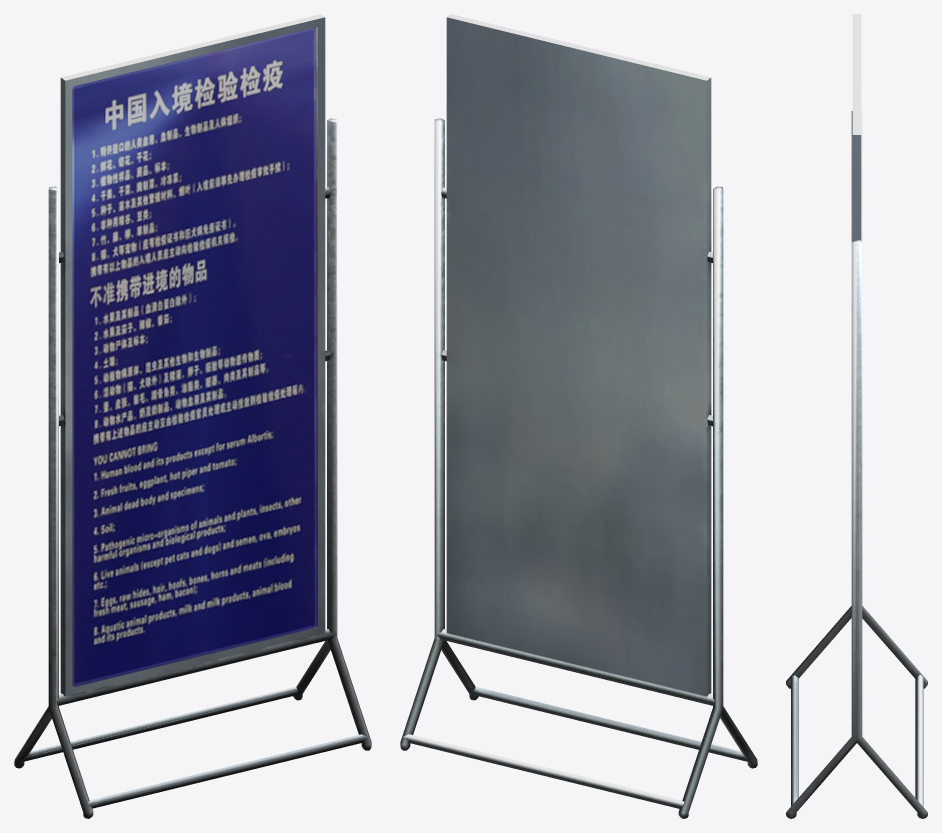
Rendered from 3dgj_bp_jyjy_qyp.FBX.
3 renders of one model, left to right at view 1: azimuth 30°, elevation 25°; view 2: azimuth 150°, elevation 25°; view 3: azimuth 270°, elevation 25°, orthographic. The views are drawn at different scales.
Visible parts, largest first — view 1: 3dgj_bp_jyjy_qyp; view 2: 3dgj_bp_jyjy_qyp; view 3: 3dgj_bp_jyjy_qyp.
Boxes of the visible parts, x1,y1,x2,y2 form: 3dgj_bp_jyjy_qyp: (14, 14, 371, 818); 3dgj_bp_jyjy_qyp: (400, 14, 757, 818); 3dgj_bp_jyjy_qyp: (786, 14, 927, 818).
Size of the model in its own units: 0.6551 by 1.54 by 0.2923.
